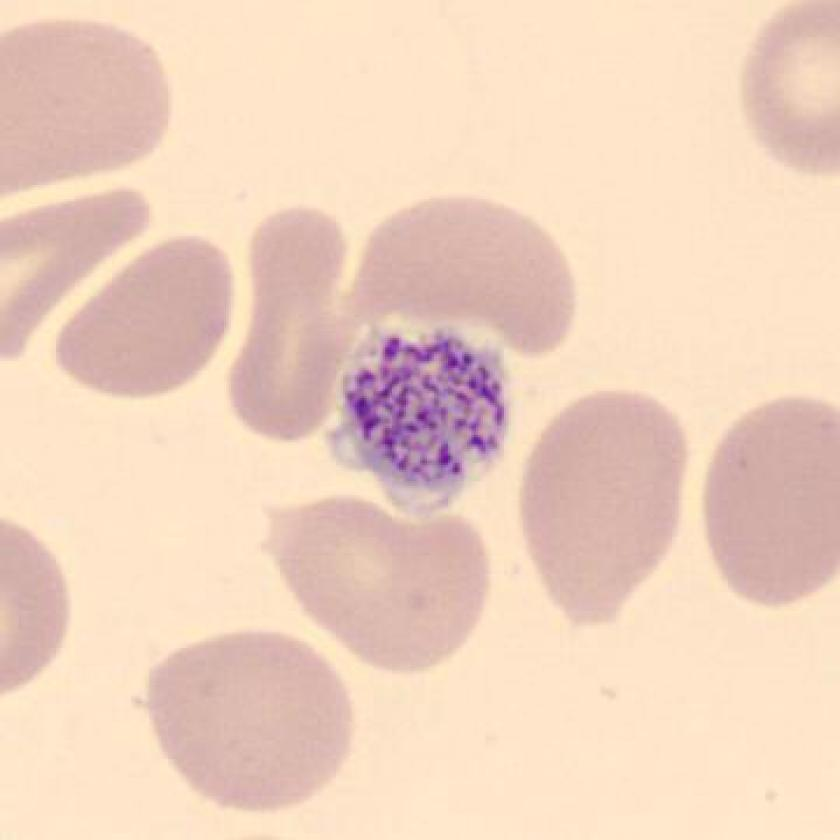platelets: (323, 316, 524, 529)
